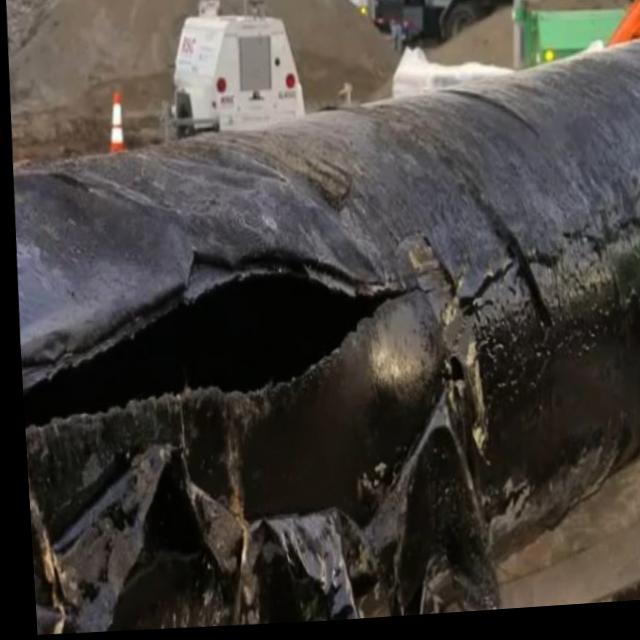leak: (25, 281, 421, 432)
